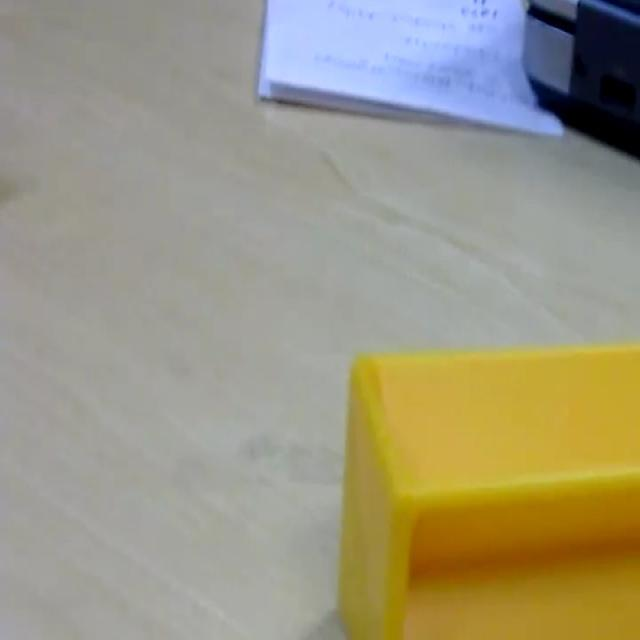yellow_block: (337, 341, 638, 636)
